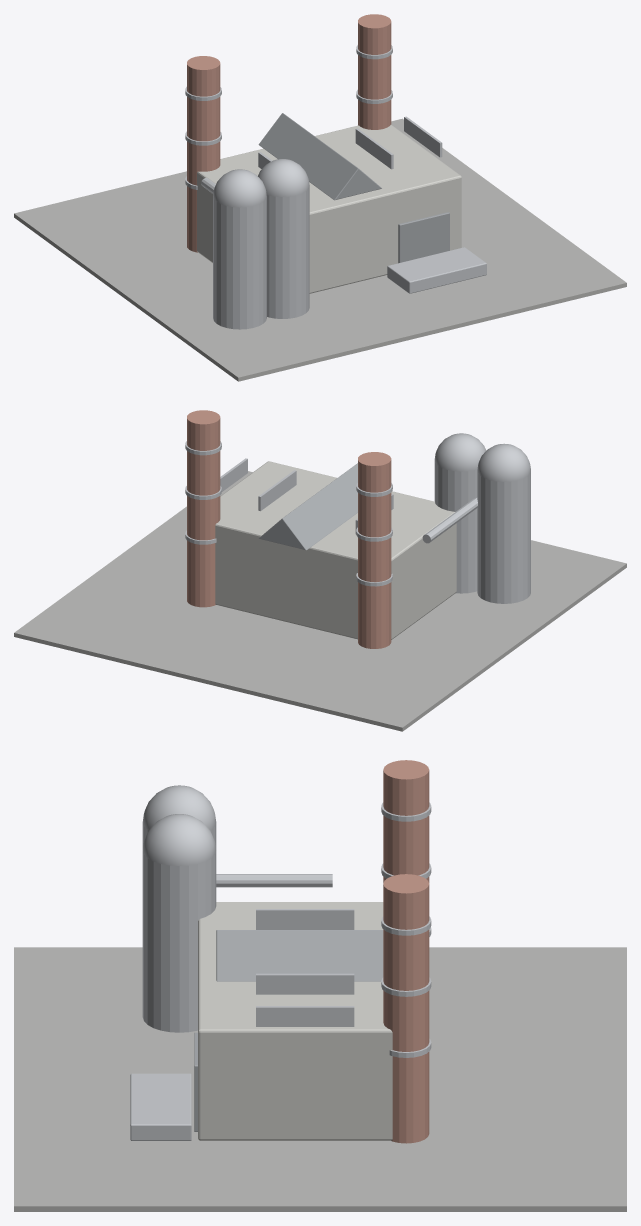
Rendered from industry.glb.
The picture shows the model from 3 angles, top to bottom: view 1: azimuth 30°, elevation 25°; view 2: azimuth 150°, elevation 25°; view 3: azimuth 270°, elevation 25°; orthographic projection. The views are drawn at different scales.
Visible parts, largest first — view 1: Ground, Factory, Silo0, Silo1, Chimney0, Tooth0, Chimney1, LoadingDock, Door, SiloTop0, SiloTop1, ToothGlass2 (+1 smaller); view 2: Ground, Factory, Silo0, Chimney0, Chimney1, Tooth0, Silo1, SiloTop0, SiloTop1, Pipe, ToothGlass2, ToothGlass3; view 3: Ground, Factory, Chimney1, Silo1, Tooth0, Chimney0, LoadingDock, SiloTop1, ToothGlass2, ToothGlass0, ToothGlass3, SiloTop0 (+1 smaller).
Part boxes in pixels (x1=…): Ground: x1=14, y1=118, x2=626, y2=381; Factory: x1=197, y1=125, x2=461, y2=293; Silo0: x1=213, y1=196, x2=266, y2=329; Silo1: x1=266, y1=186, x2=309, y2=318; Chimney0: x1=187, y1=56, x2=220, y2=252; Tooth0: x1=258, y1=113, x2=381, y2=200; Chimney1: x1=358, y1=14, x2=391, y2=129; LoadingDock: x1=387, y1=247, x2=486, y2=293; Door: x1=398, y1=212, x2=449, y2=263; SiloTop0: x1=213, y1=169, x2=266, y2=207; SiloTop1: x1=258, y1=159, x2=309, y2=196; ToothGlass2: x1=355, y1=128, x2=393, y2=169; Ground: x1=14, y1=471, x2=626, y2=731; Factory: x1=215, y1=461, x2=456, y2=639; Silo0: x1=477, y1=471, x2=530, y2=603; Chimney0: x1=358, y1=452, x2=391, y2=648; Chimney1: x1=187, y1=410, x2=220, y2=607; Tooth0: x1=259, y1=463, x2=357, y2=550; Silo1: x1=434, y1=461, x2=477, y2=593; SiloTop0: x1=477, y1=443, x2=530, y2=481; SiloTop1: x1=434, y1=433, x2=486, y2=471; Pipe: x1=422, y1=497, x2=477, y2=543; ToothGlass2: x1=258, y1=470, x2=296, y2=511; ToothGlass3: x1=220, y1=458, x2=247, y2=491; Ground: x1=14, y1=947, x2=626, y2=1211; Factory: x1=198, y1=902, x2=392, y2=1140; Chimney1: x1=383, y1=874, x2=429, y2=1143; Silo1: x1=142, y1=851, x2=216, y2=1032; Tooth0: x1=216, y1=930, x2=383, y2=981; Chimney0: x1=383, y1=760, x2=429, y2=882; LoadingDock: x1=130, y1=1073, x2=191, y2=1140; SiloTop1: x1=142, y1=814, x2=216, y2=865; ToothGlass2: x1=256, y1=973, x2=354, y2=994; ToothGlass0: x1=256, y1=909, x2=354, y2=929; ToothGlass3: x1=256, y1=1006, x2=354, y2=1026; SiloTop0: x1=142, y1=785, x2=216, y2=830.
Size of the model in its own units: 20 by 9.2 by 20.
